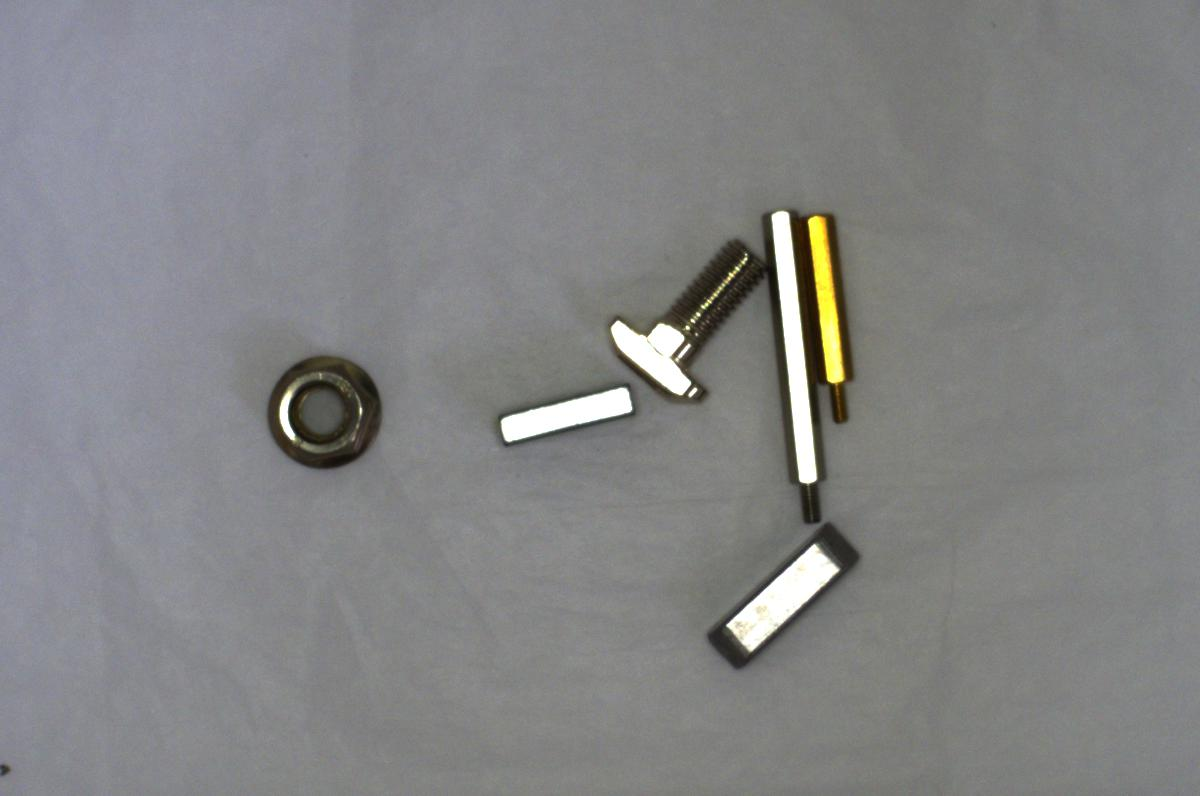Flange nut: (260, 349, 386, 474)
Hexagon pillar: (799, 205, 875, 427)
Hexagonal steel column: (755, 203, 837, 532)
Keybar: (702, 520, 865, 668)
Rectangular nut: (485, 379, 642, 460)
T-shaped screw: (608, 229, 767, 412)
